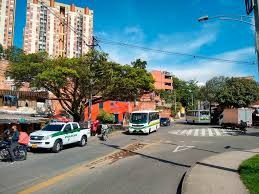car: (28, 121, 88, 153), (127, 110, 160, 135), (1, 142, 27, 162)
